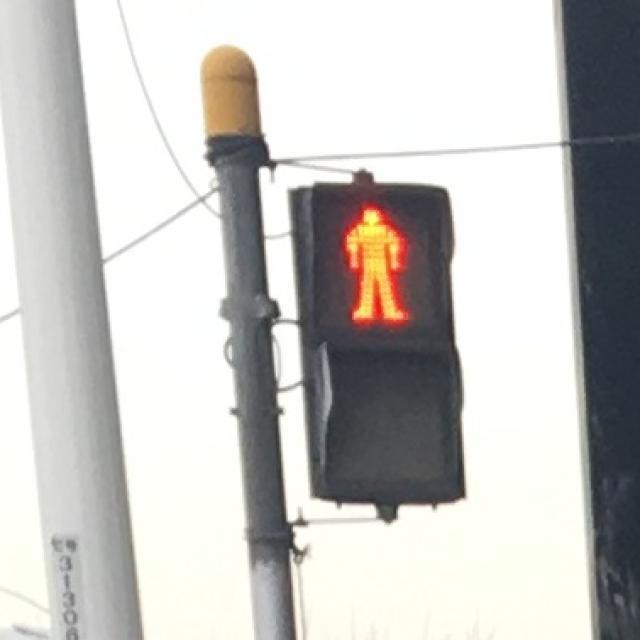red-crossing: (314, 188, 440, 340)
